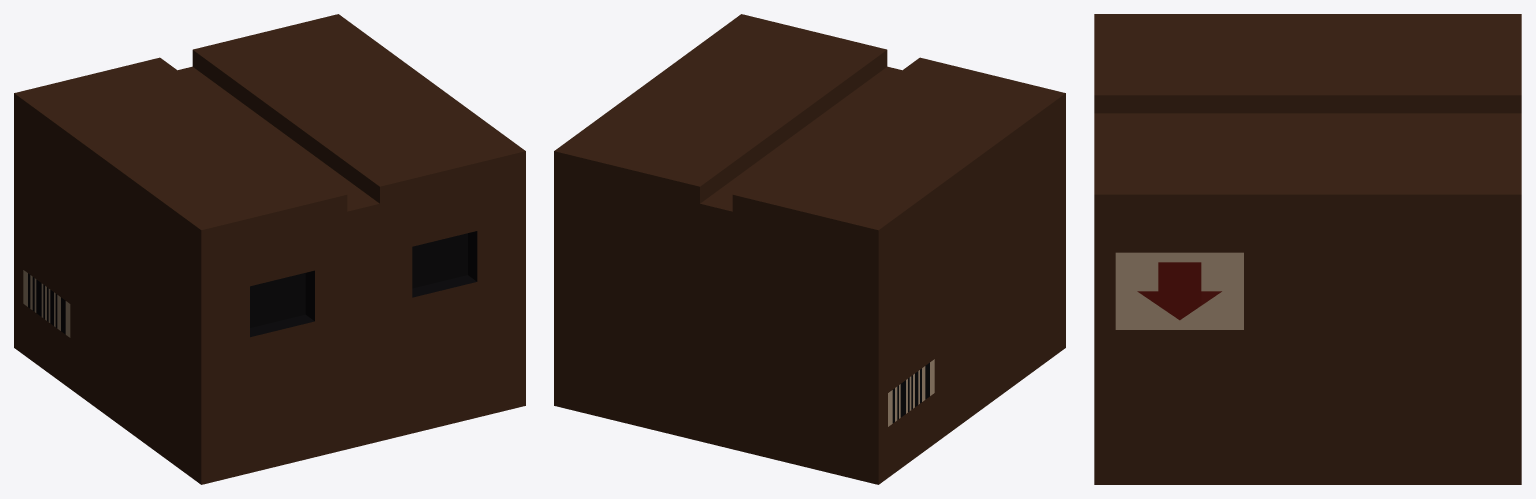
The model's file is magpieDisguise_idle.dae.
The picture shows the model from 3 angles, left to right: view 1: azimuth 30°, elevation 25°; view 2: azimuth 150°, elevation 25°; view 3: azimuth 270°, elevation 25°; orthographic projection. The views are drawn at different scales.
Visible parts, largest first — view 1: magpieDisguiseIdle_body_MSH; view 2: magpieDisguiseIdle_body_MSH; view 3: magpieDisguiseIdle_body_MSH.
Part boxes in pixels (box(x1,y1,x2,y2)): magpieDisguiseIdle_body_MSH: box(14, 14, 525, 484); magpieDisguiseIdle_body_MSH: box(554, 14, 1065, 484); magpieDisguiseIdle_body_MSH: box(1094, 14, 1521, 484).
Bounding box in the file's own units: 0.8333 × 0.625 × 0.8333.
